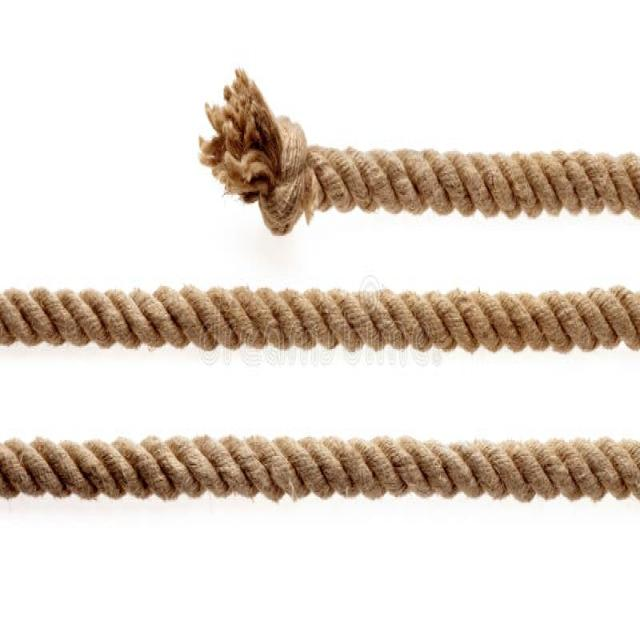Rope: (0, 76, 640, 546)
